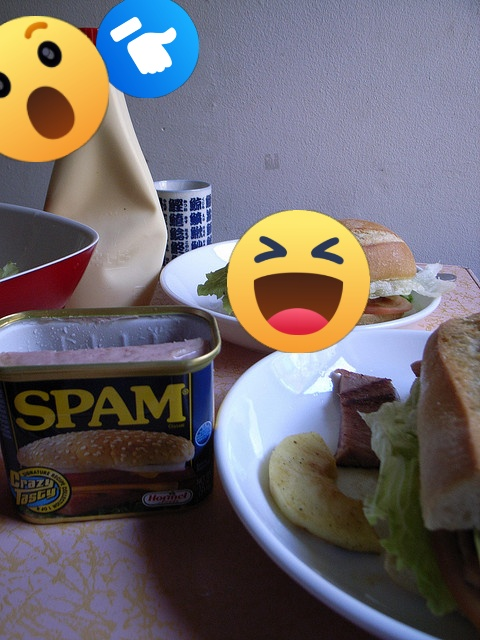haha: (227, 210, 370, 353)
like: (96, 0, 199, 98)
wow: (0, 16, 109, 162)
